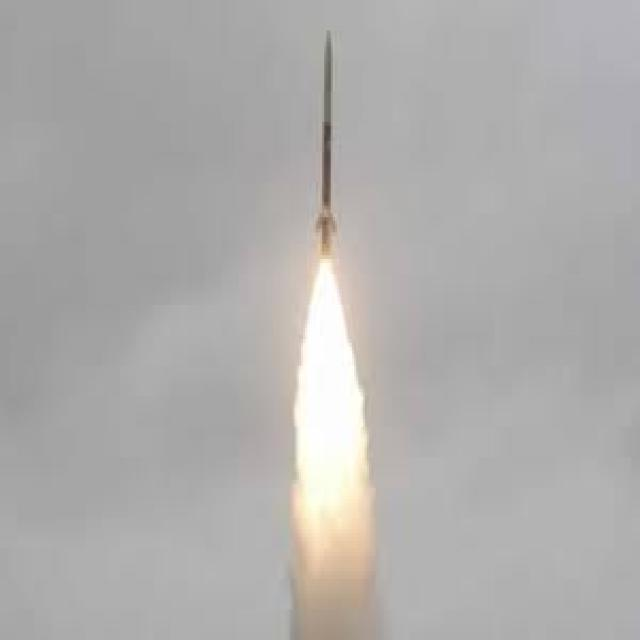missile: (317, 27, 339, 281)
